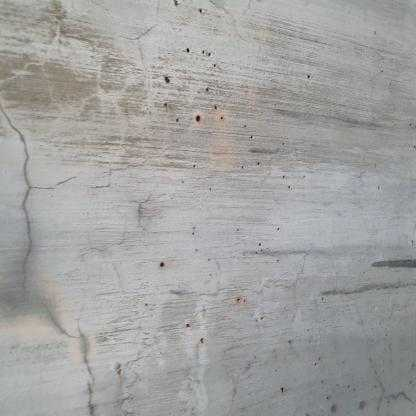crack: (1, 99, 39, 299), (42, 303, 98, 411)
